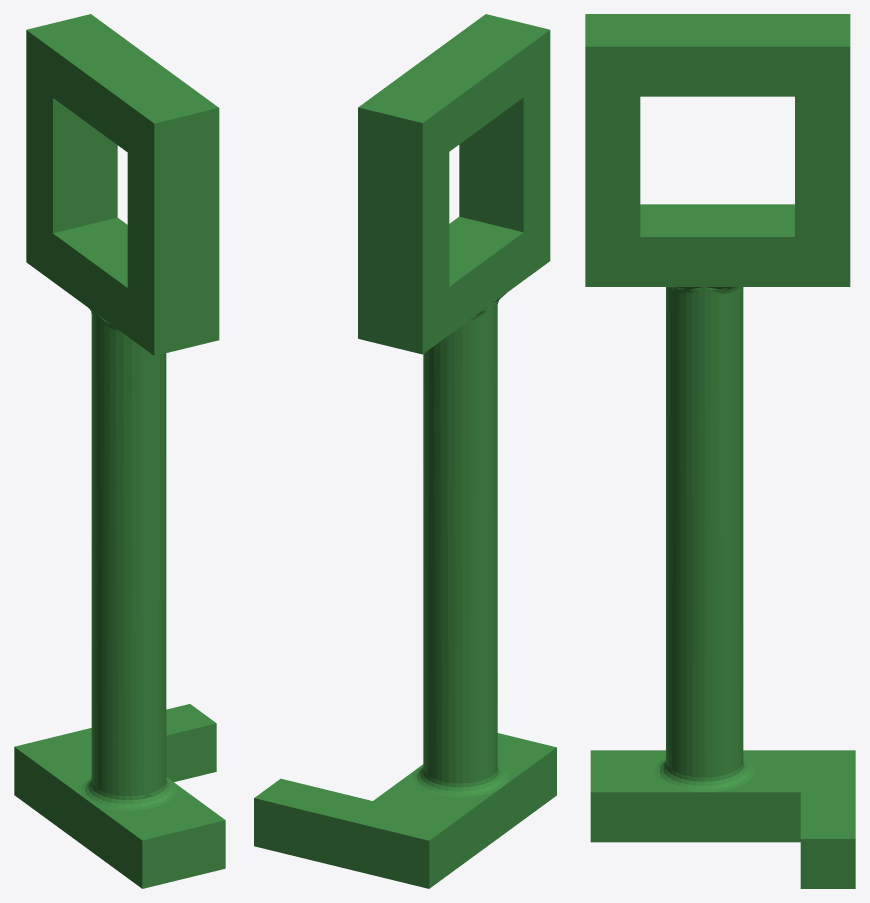
Rendered from Key_pivot_Corpo1_Mesh.obj.
3 views of the same model, side by side, from view 1: azimuth 30°, elevation 25°; view 2: azimuth 150°, elevation 25°; view 3: azimuth 270°, elevation 25° (orthographic). The views are drawn at different scales.
Size of the model in its own units: 19 by 79 by 24.5.
